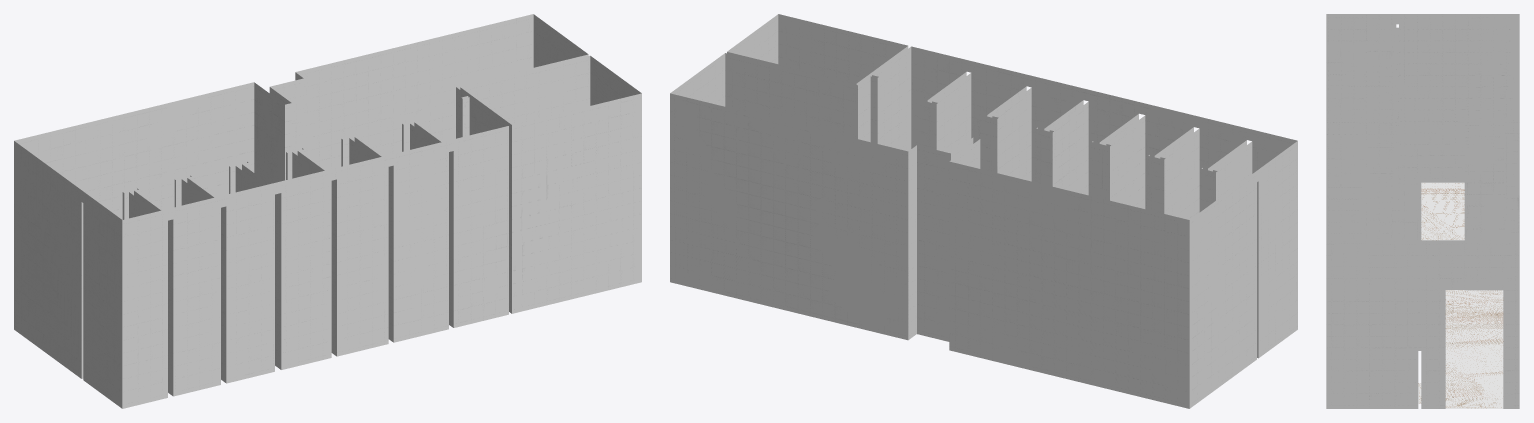
File: COM027.obj
3 renders of one model, left to right at view 1: azimuth 30°, elevation 25°; view 2: azimuth 150°, elevation 25°; view 3: azimuth 270°, elevation 25°, orthographic. The views are drawn at different scales.
Parts seen in each view (by area): view 1: Mesh1 COM027 Model; view 2: Mesh1 COM027 Model; view 3: Mesh1 COM027 Model.
Part boxes in pixels (x1,y1,x2,y2): Mesh1 COM027 Model: [14, 14, 641, 408]; Mesh1 COM027 Model: [670, 14, 1297, 408]; Mesh1 COM027 Model: [1326, 14, 1519, 408].
Bounding box in the file's own units: 8.56 × 2.98 × 3.1.
Materials: 3 (2 with a texture image).
